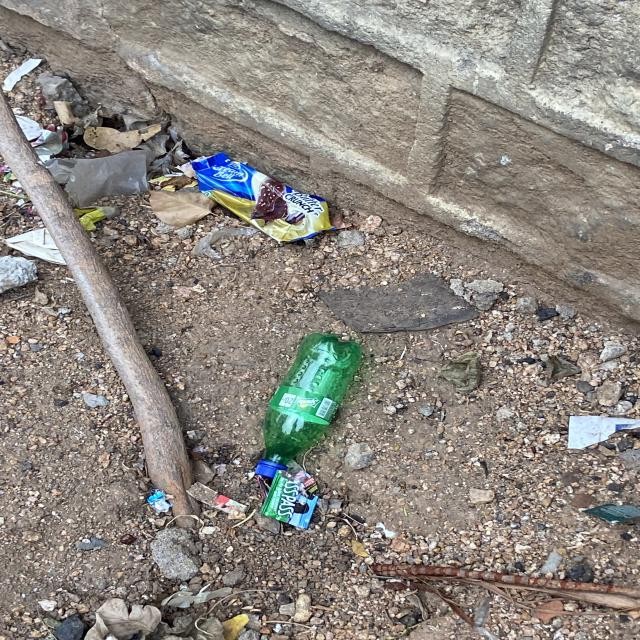chai_nhua: (255, 333, 361, 479)
giay_goi: (189, 152, 332, 241), (260, 471, 318, 530)
rac_huu_co: (0, 94, 198, 529)
